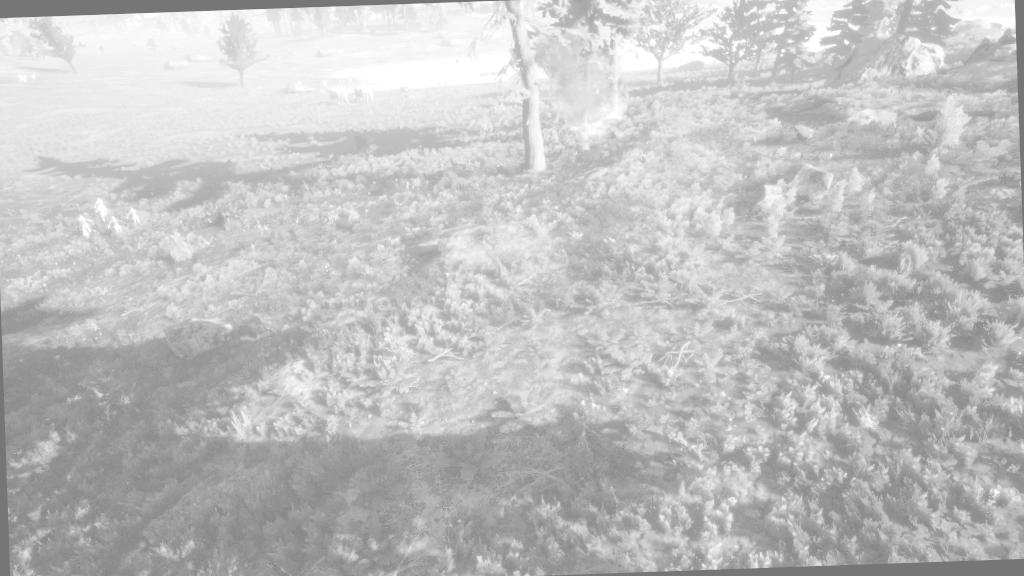Fire: (569, 94, 638, 146)
smoke: (530, 31, 608, 94)
